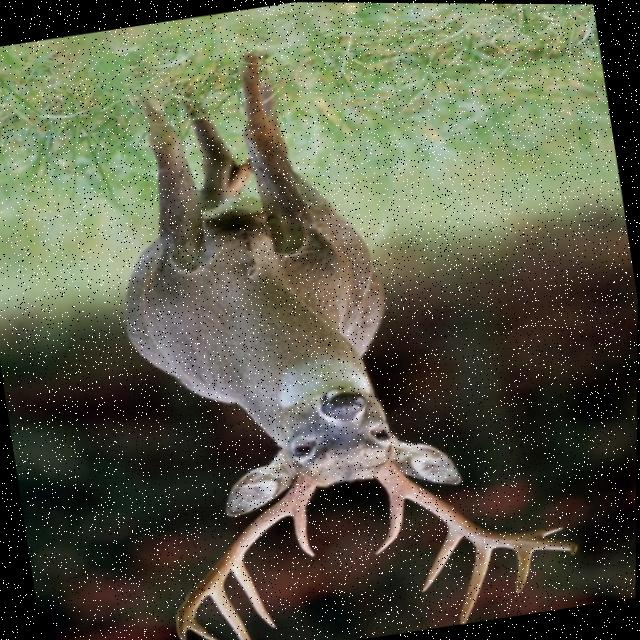E1: (516, 525, 564, 536)
L-F: (177, 471, 320, 640)
L-G1: (287, 500, 316, 557)
L-G2: (232, 556, 279, 628)
L-G3: (208, 581, 252, 640)
L-G4: (188, 615, 222, 640)
R-F: (376, 462, 578, 553)
R-G1: (376, 489, 408, 554)
R-G2: (422, 523, 466, 592)
R-G3: (461, 542, 500, 624)
R-G4: (513, 547, 538, 593)
